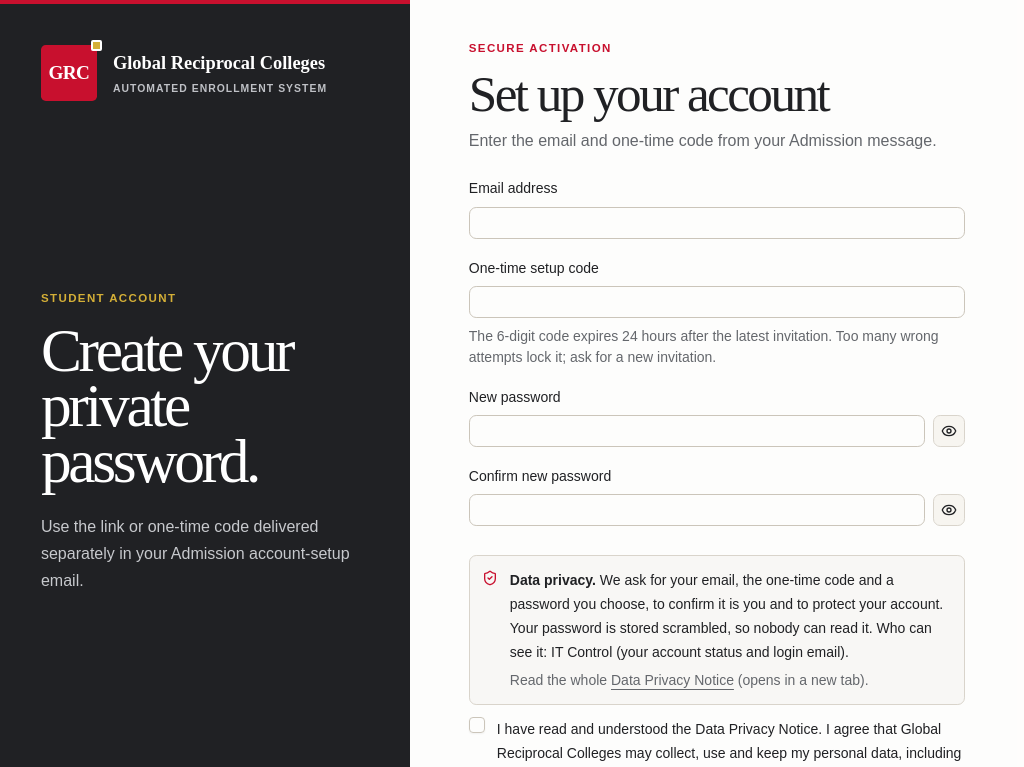
Test case: AccountSetupPage › keeps the form visible for an invalid or expired code
Type "student@grc.test" into the field labelled "Email address". click: (717, 223)
box: left=469, top=207, right=965, bottom=239
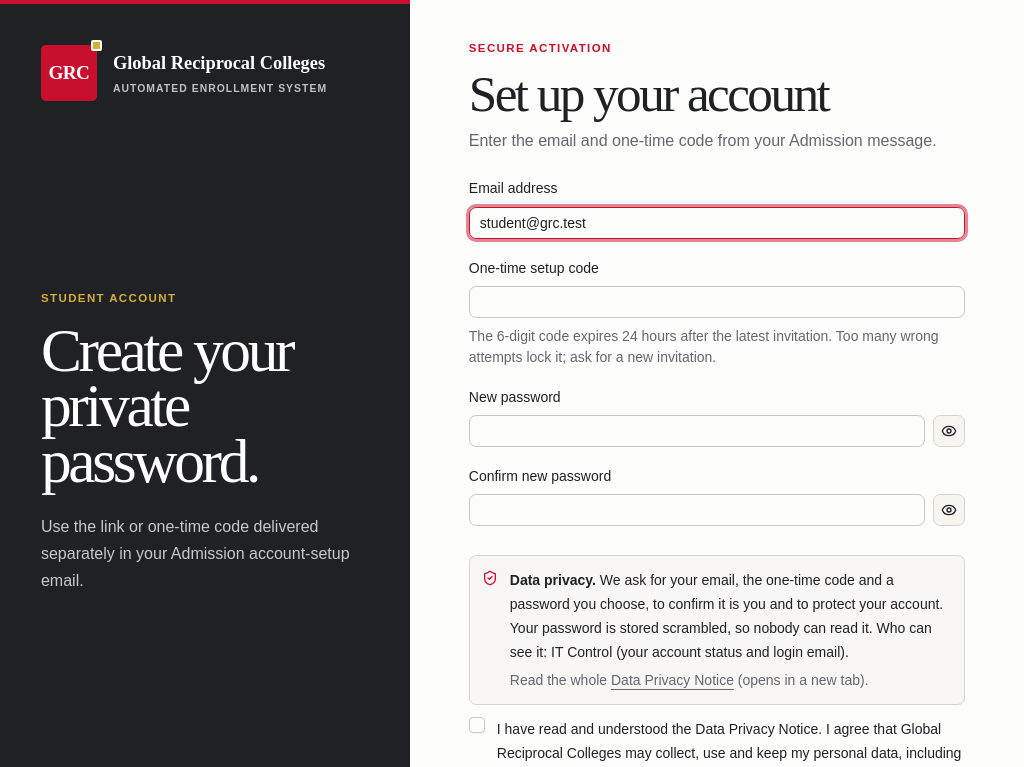
Type "123456" into the field labelled "One-time setup code". click: (717, 302)
box: left=469, top=286, right=965, bottom=318
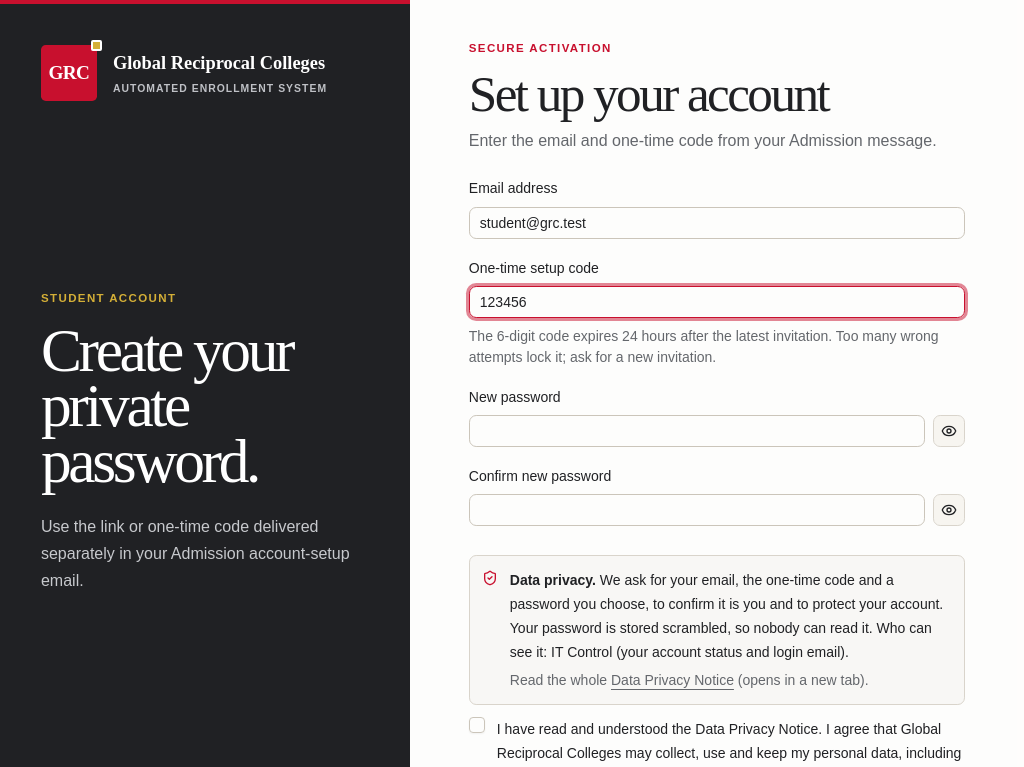
Type "New-Secure-Password1!" into the password field labelled "New password". click: (697, 431)
box: left=469, top=415, right=925, bottom=447
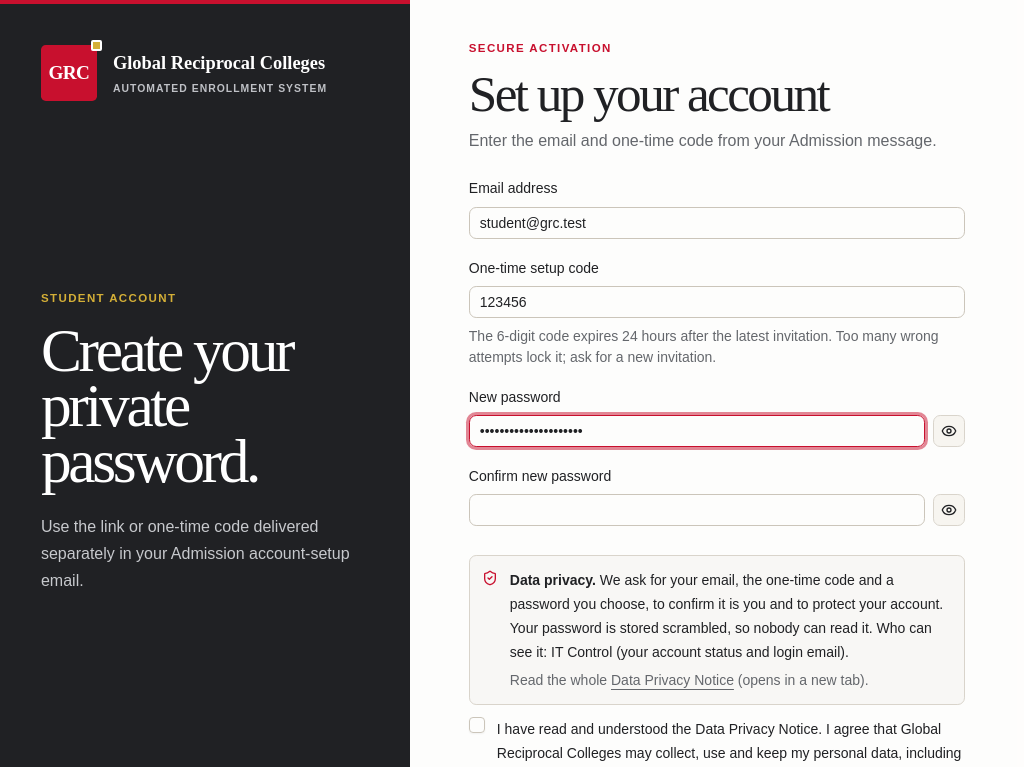
Type "New-Secure-Password1!" into the password field labelled "Confirm new password". click: (697, 510)
box: left=469, top=494, right=925, bottom=526
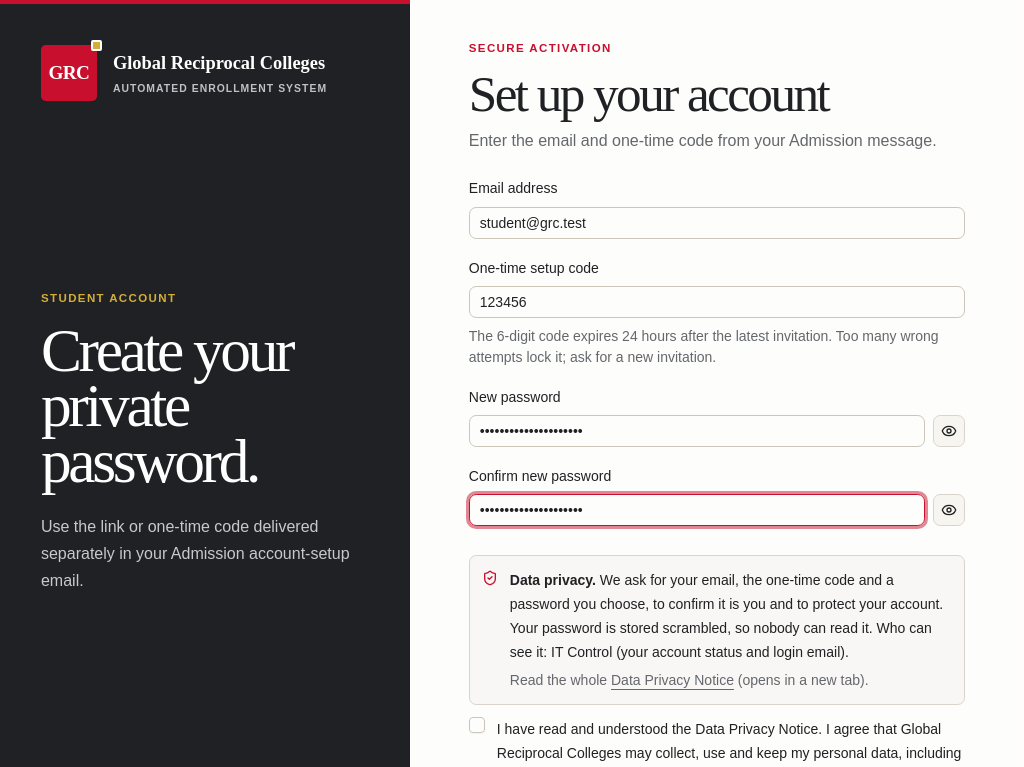
Click the checkbox named "I have read and understood the Data Privacy Notice". click: (477, 725)
box: left=469, top=717, right=485, bottom=733
(page scrolled)
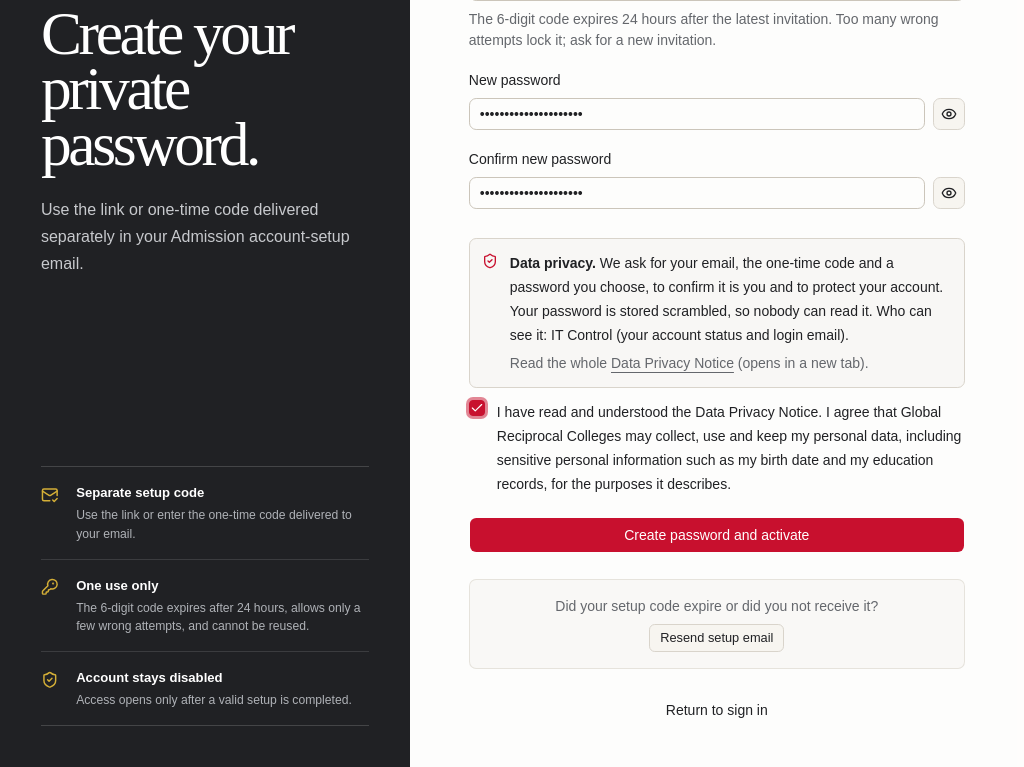
Click the button "Create password and activate". click: (717, 535)
box: left=469, top=517, right=965, bottom=553
(page scrolled)
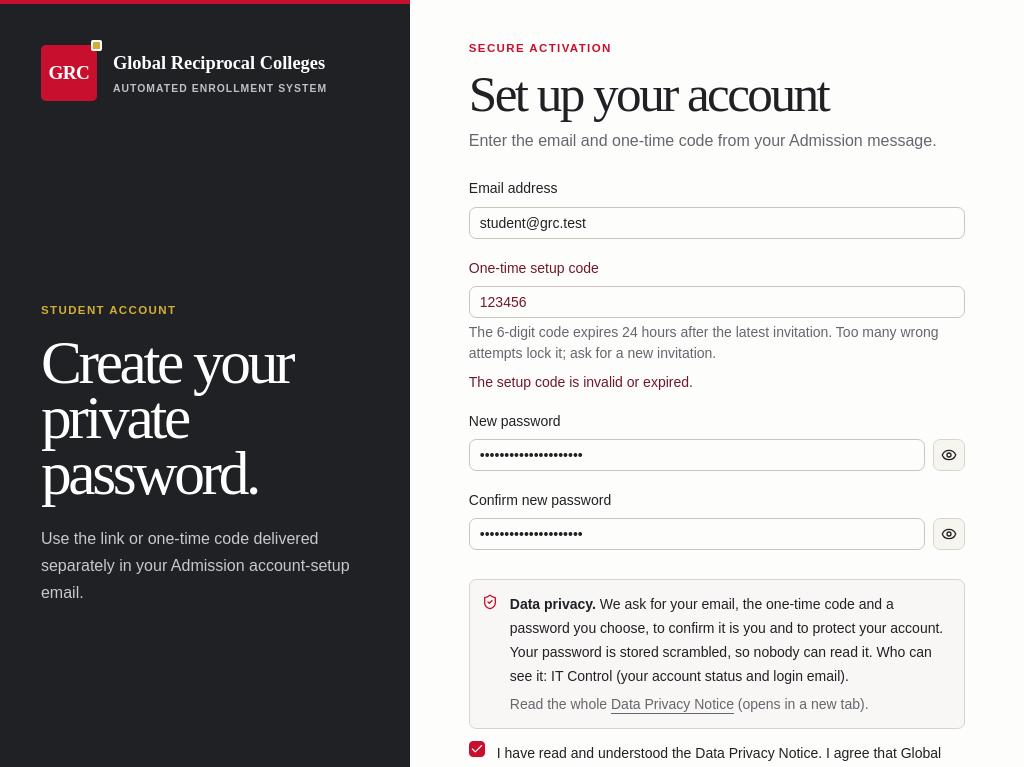
Check: the heading "Set up your account" is shown, box left=469, top=65, right=828, bottom=122
Check: the text "The setup code is invalid or expired." is shown, box left=469, top=374, right=693, bottom=390
